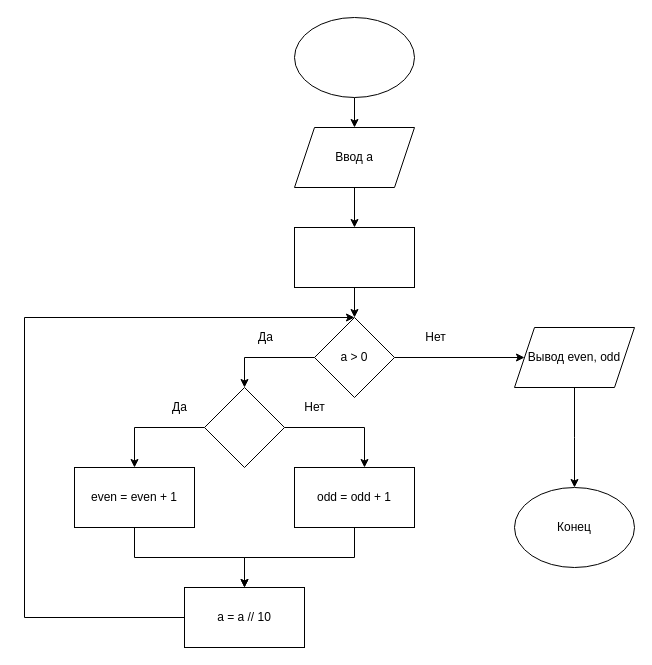
Image size: 652x665. Some labels were removed from this diagram. The box of each missing label's shape, as (x1, y1, x2, y2) in pixels:
a % 2 == 0: (204, 386, 284, 468)
even = 0 odd = 0: (294, 226, 414, 288)
Начало: (294, 16, 414, 98)
